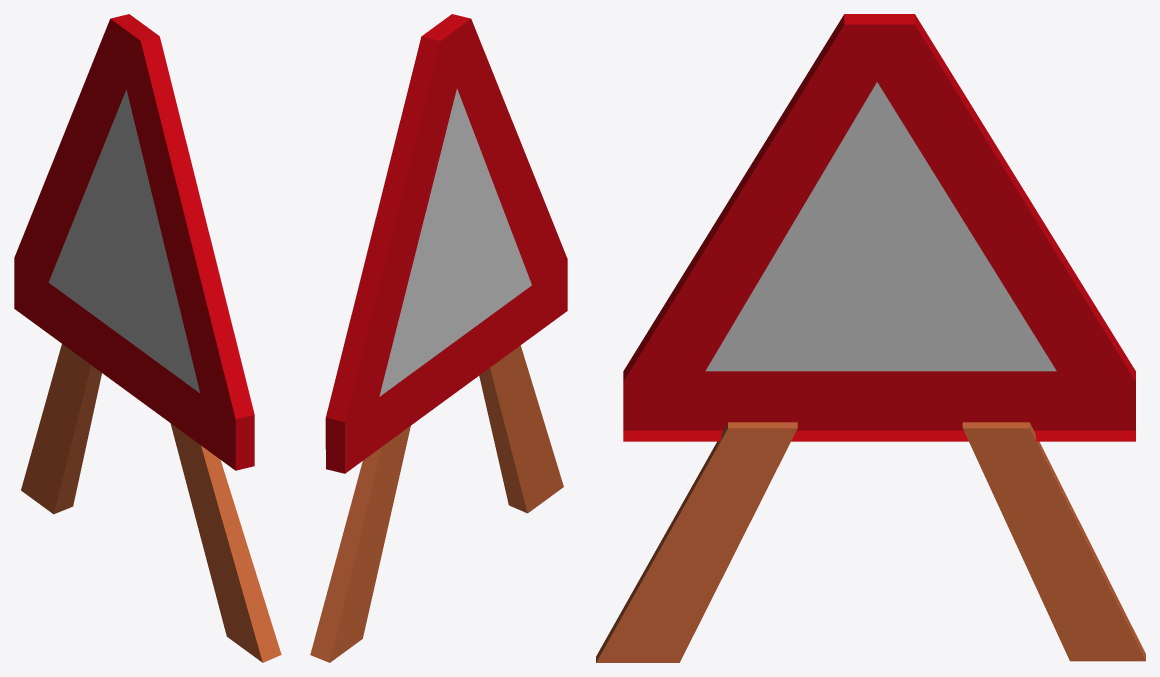
Rendered from ConstructionSign.fbx.
The picture shows the model from 3 angles, left to right: view 1: azimuth 30°, elevation 25°; view 2: azimuth 150°, elevation 25°; view 3: azimuth 270°, elevation 25°; orthographic projection. The views are drawn at different scales.
Visible parts, largest first — view 1: Plane; view 2: Plane; view 3: Plane.
Part boxes in pixels (x1=…): Plane: x1=14, y1=14, x2=281, y2=662; Plane: x1=310, y1=14, x2=567, y2=662; Plane: x1=596, y1=14, x2=1145, y2=662.
Size of the model in its own units: 350 by 5355 by 4208.
